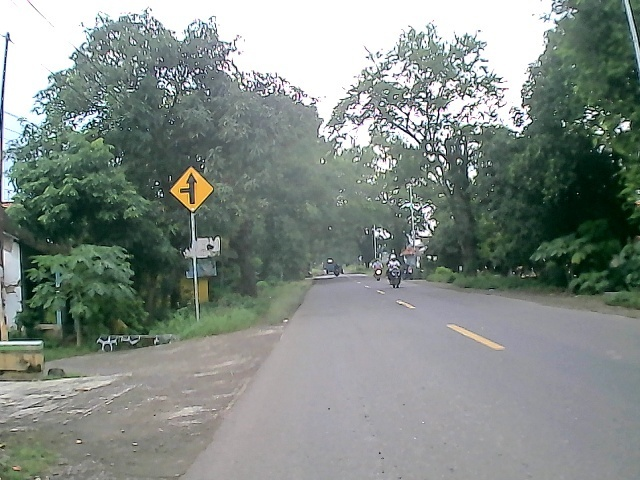Simpang kiri dengan prioritas: (166, 165, 216, 216)
